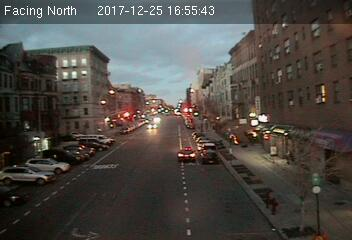car: (198, 148, 220, 164), (177, 148, 195, 161)
